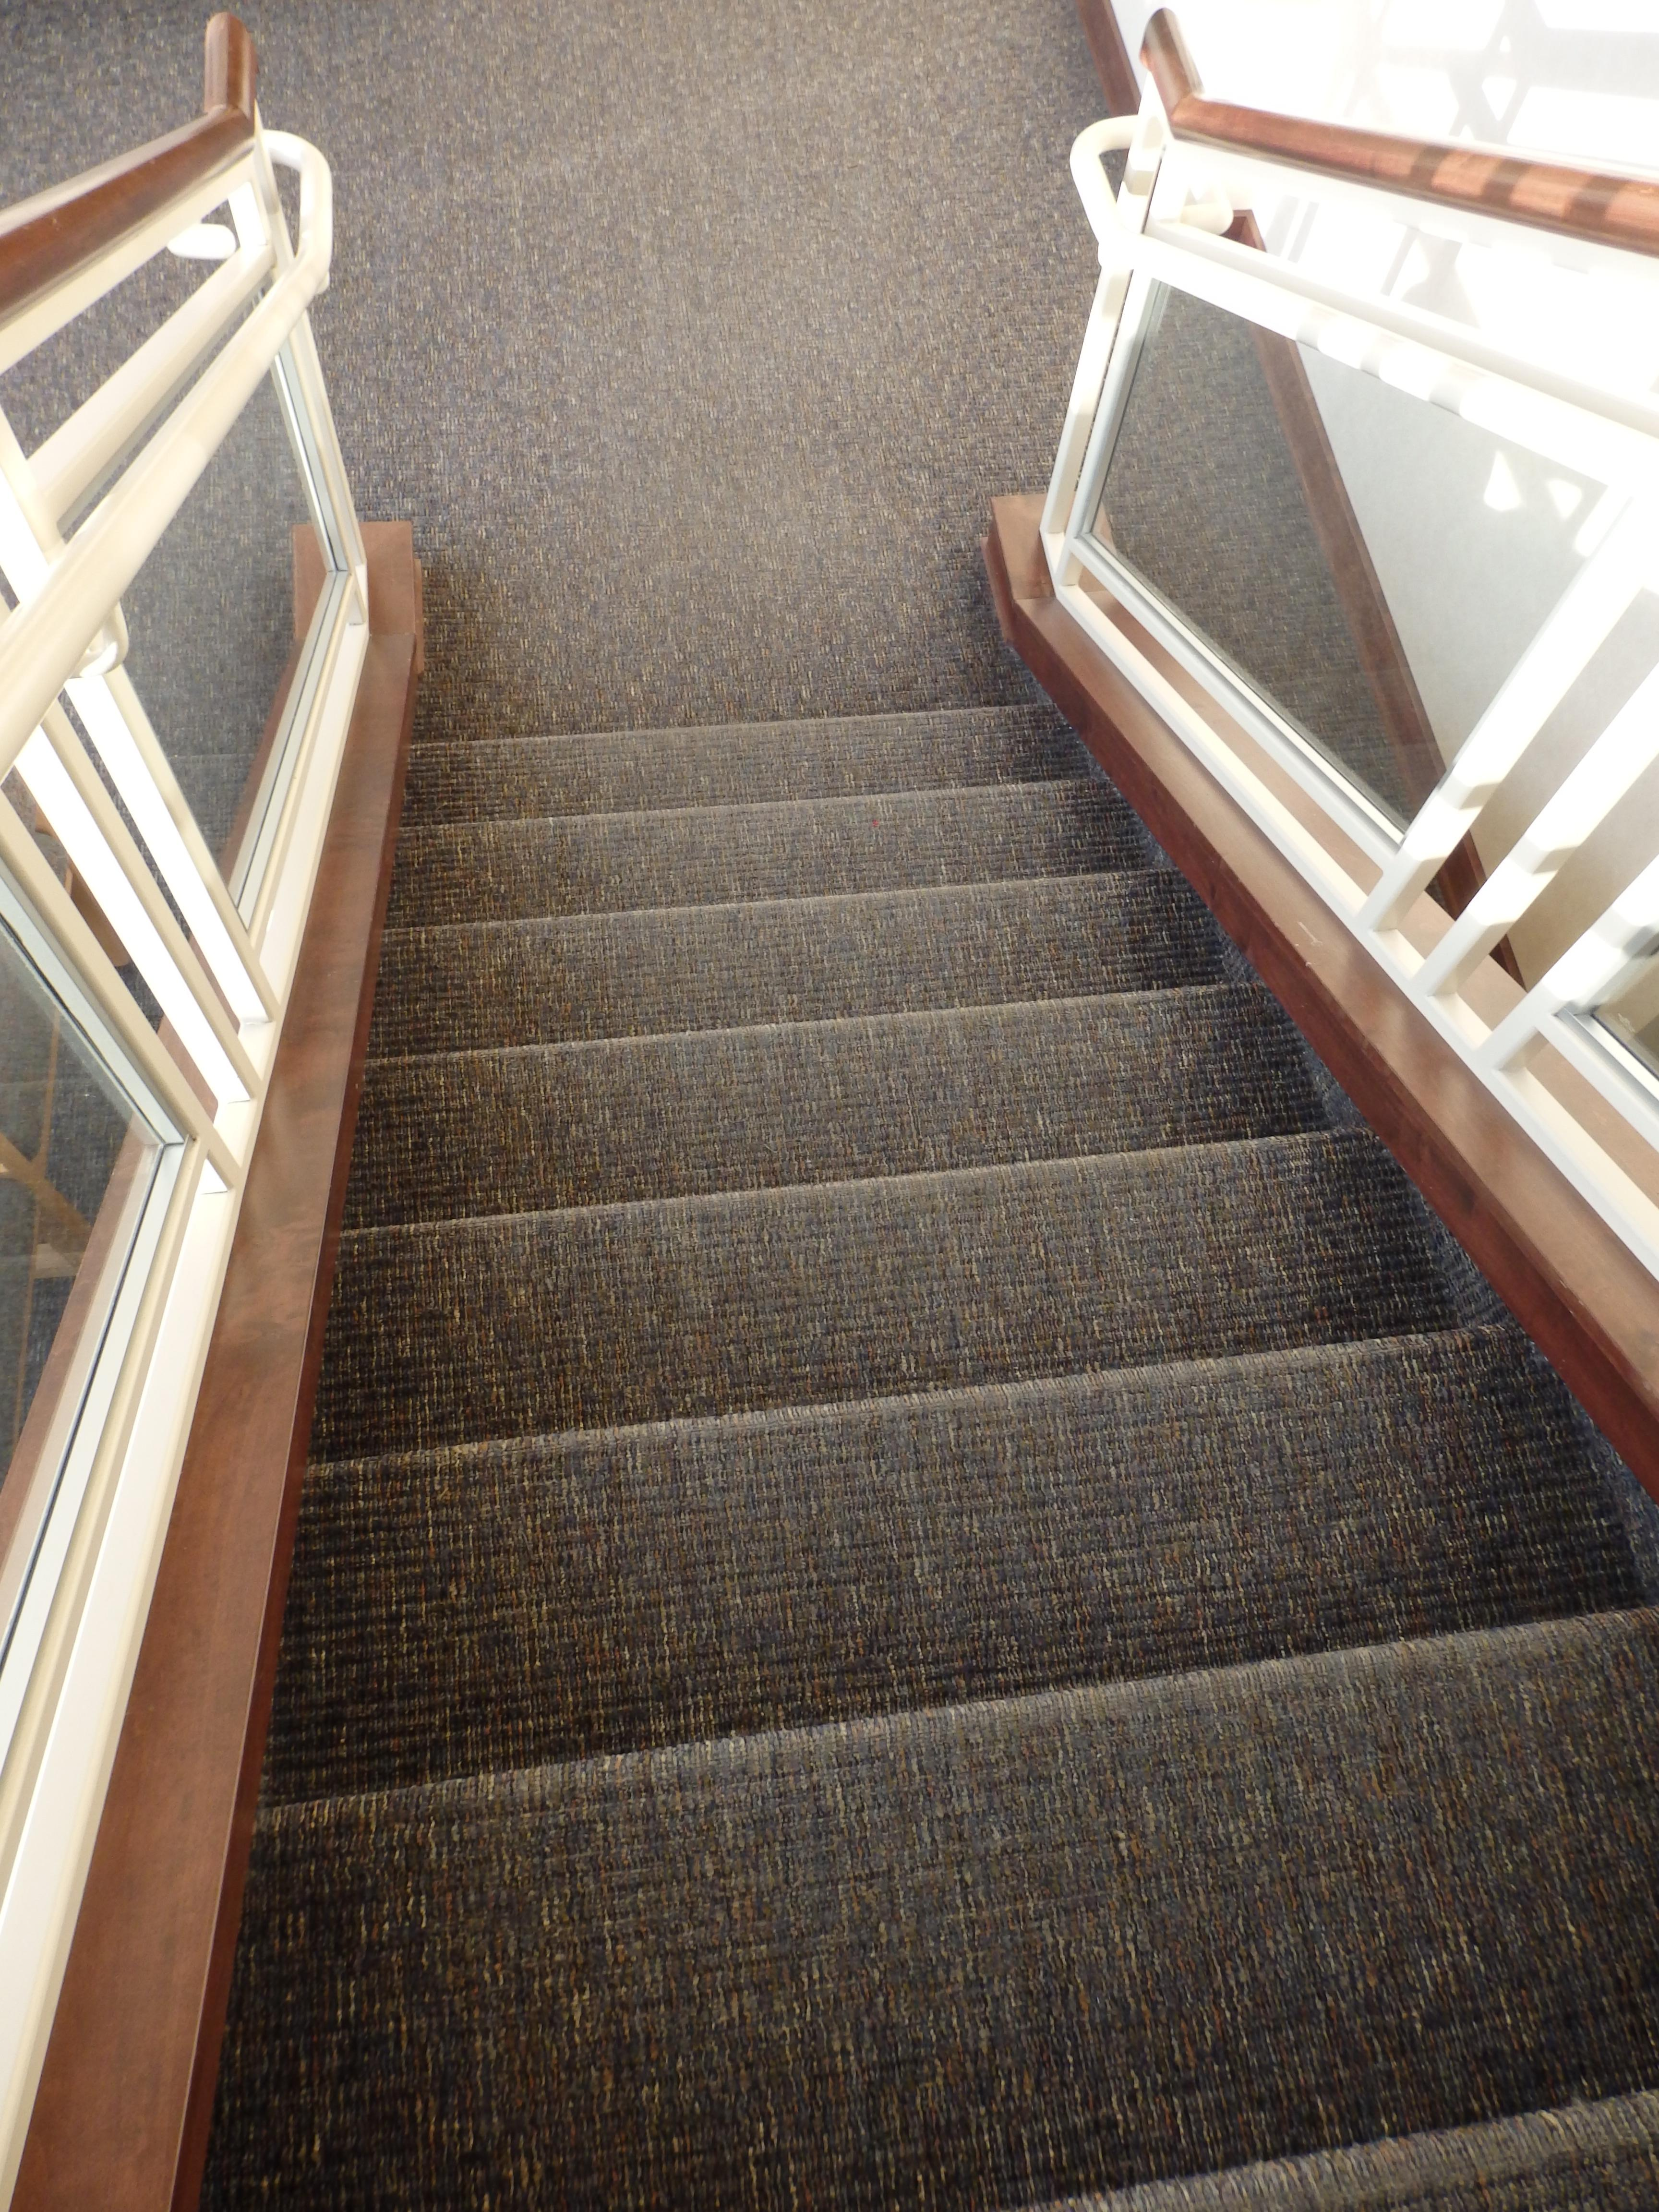stairs_down: (277, 690, 1614, 2006)
